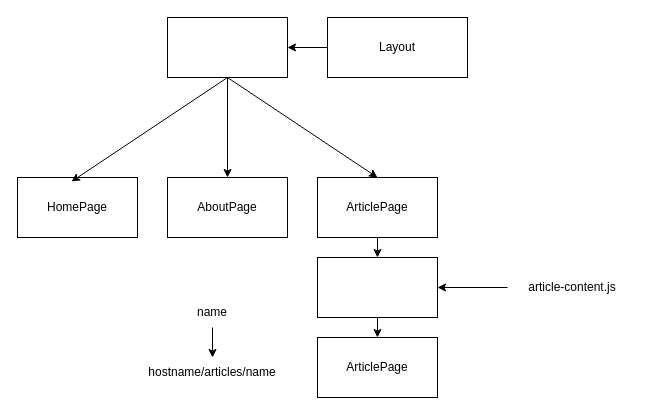
Image size: 655x415. Some labels were removed from this diagram. Each missing label, with the centre of its shape:
"App.jsx" goes at point (227, 47).
"ArticleList" goes at point (377, 287).
